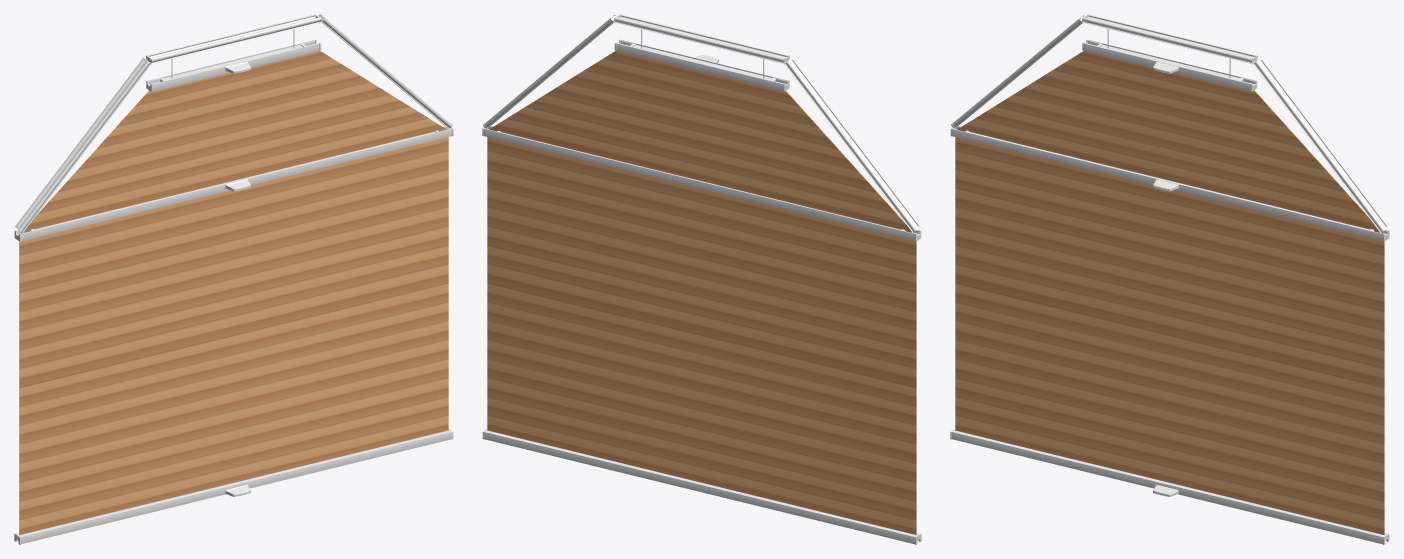
The picture shows the model from 3 angles, left to right: view 1: azimuth 30°, elevation 25°; view 2: azimuth 150°, elevation 25°; view 3: azimuth 330°, elevation 25°; orthographic projection.
Visible parts, largest first — view 1: Plane.003, Plane.002, Cube.012, Cube.001, Cube.002, Cube.017, Cube.005, Cube.006; view 2: Plane.003, Plane.002, Cube.012, Cube.001, Cube.002, Cube.017, Cube.005, Cube.006; view 3: Plane.003, Plane.002, Cube.012, Cube.001, Cube.006, Cube.017, Cube.005, Cube.002.
Part boxes in pixels (x1,y1,x2,y2): Plane.003: (19, 137, 448, 534); Plane.002: (20, 51, 446, 233); Cube.012: (16, 430, 451, 544); Cube.001: (16, 126, 451, 240); Cube.002: (16, 59, 150, 231); Cube.017: (148, 40, 319, 91); Cube.005: (148, 14, 319, 63); Cube.006: (322, 19, 451, 128); Plane.003: (487, 137, 916, 534); Plane.002: (489, 51, 914, 233); Cube.012: (484, 430, 919, 544); Cube.001: (483, 126, 919, 240); Cube.002: (785, 59, 919, 231); Cube.017: (616, 40, 787, 91); Cube.005: (615, 14, 787, 63); Cube.006: (484, 16, 614, 128); Plane.003: (955, 137, 1384, 535); Plane.002: (957, 51, 1383, 233); Cube.012: (952, 430, 1387, 544); Cube.001: (952, 126, 1387, 241); Cube.006: (1254, 59, 1387, 231); Cube.017: (1083, 40, 1254, 91); Cube.005: (1083, 14, 1255, 63); Cube.002: (952, 17, 1082, 127).
Size of the model in its own units: 0.9998 by 0.9991 by 0.0476.
Materials: 6 (2 with a texture image).
